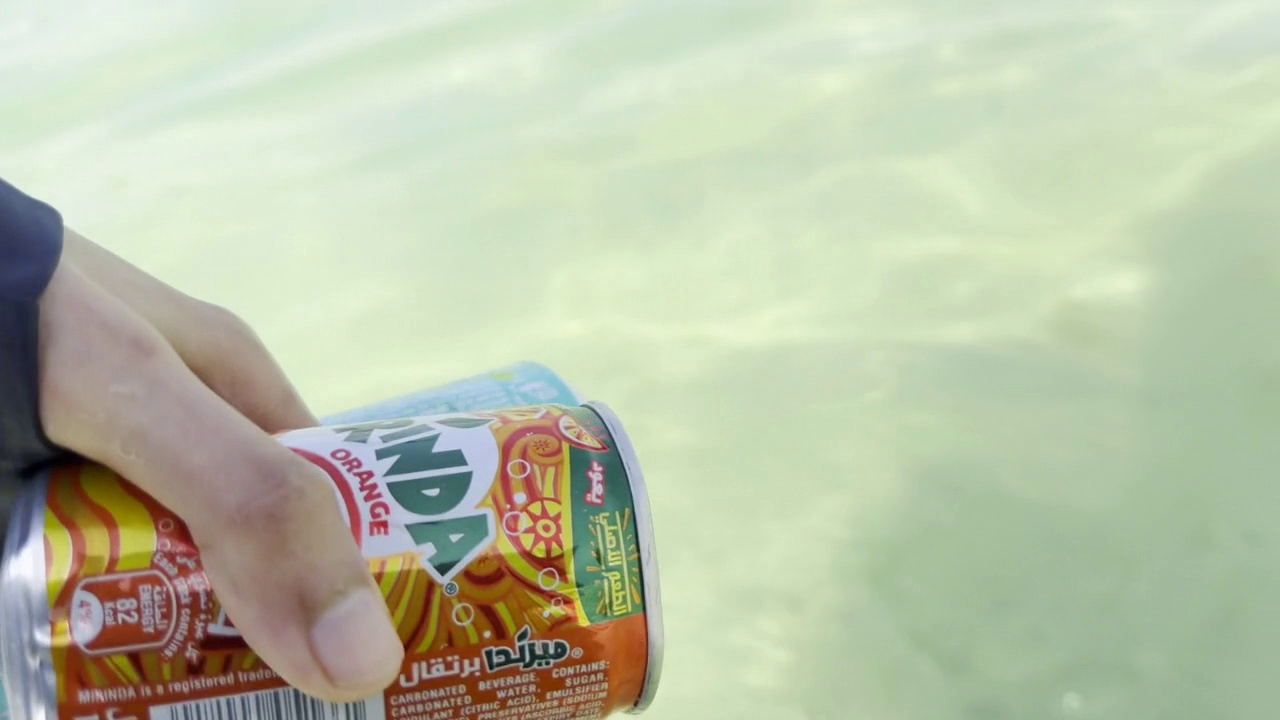debris: (0, 382, 693, 720)
